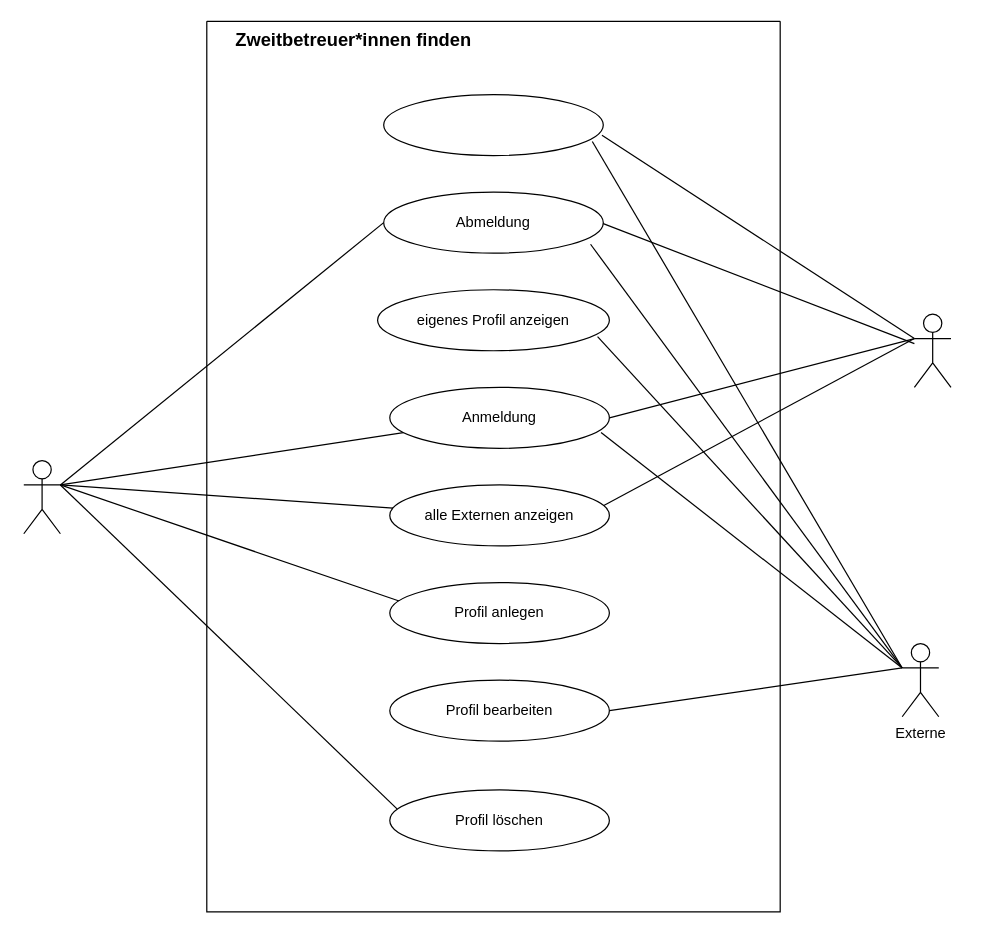
Image size: 993x933. Some labels were removed from this diagram. Each missing label, with the box of its shape:
Admin: (23, 459, 60, 534)
Registrierung: (382, 93, 603, 156)
Studierende: (913, 313, 951, 387)
